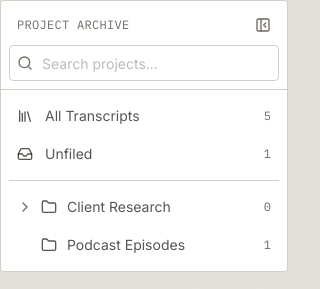
Test: ProjectArchivePanel › collapses to a compact control and persists the preference
The image size is (320, 289).
Click the button named "Collapse project archive": x=263, y=25 [247,9,279,41]
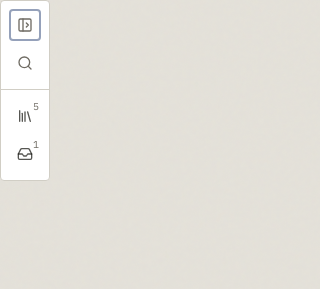
Check: the navigation bar named "Project archive" is shown, box [0,0,50,181]
Check: the button named "Expand project archive" is collapsed, box [9,9,41,41]
